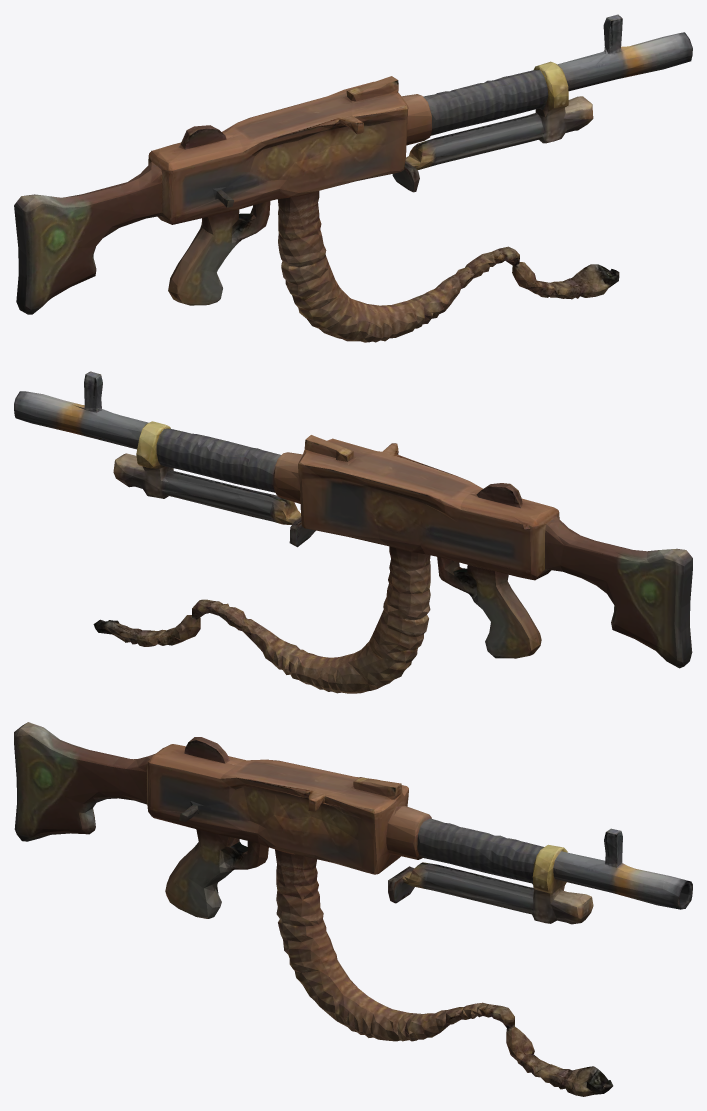
The model's file is huben.glb.
3 renders of one model, top to bottom at view 1: azimuth 30°, elevation 25°; view 2: azimuth 150°, elevation 25°; view 3: azimuth 330°, elevation 25°, orthographic.
Parts seen in each view (by area): view 1: geometry_0; view 2: geometry_0; view 3: geometry_0.
Boxes of the visible parts, x1,y1,x2,y2 form: geometry_0: (14,14,692,342); geometry_0: (14,371,692,693); geometry_0: (14,722,692,1096).
Bounding box in the file's own units: 0.9994 × 0.3802 × 0.1082.
1 material, 1 textured.
